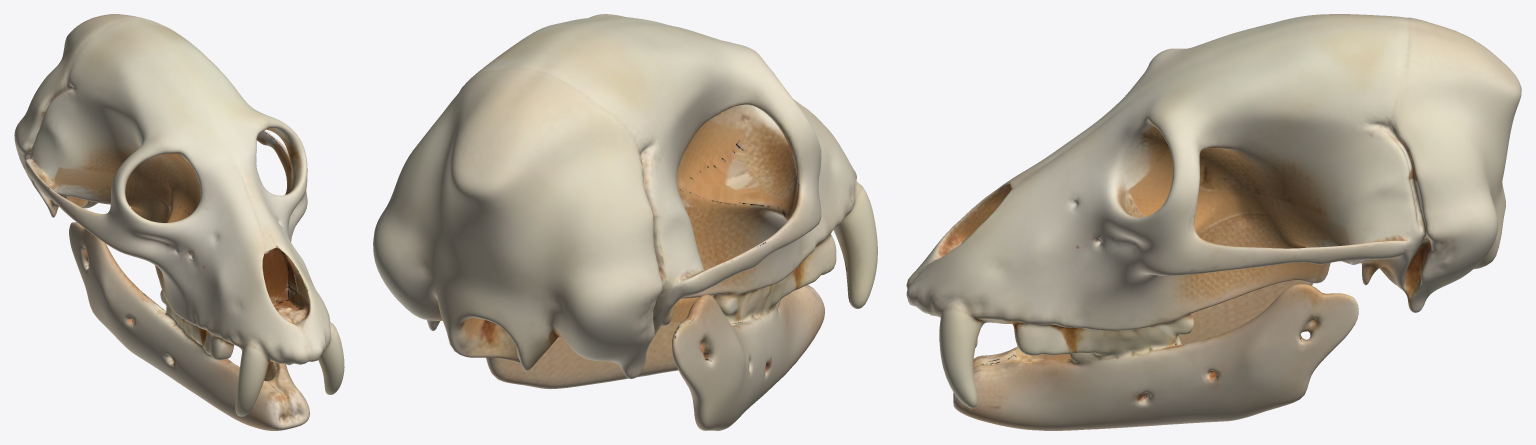
The model's file is rabbit-skull.glb.
3 views of the same model, side by side, from view 1: azimuth 30°, elevation 25°; view 2: azimuth 150°, elevation 25°; view 3: azimuth 270°, elevation 25° (orthographic). The views are drawn at different scales.
Parts seen in each view (by area): view 1: model; view 2: model; view 3: model.
Part boxes in pixels (x1,y1,x2,y2): model: (14, 14, 344, 430); model: (373, 14, 877, 430); model: (906, 14, 1521, 430).
Bounding box in the file's own units: 1.06 × 1.35 × 1.9.
Materials: 1 (1 with a texture image).
